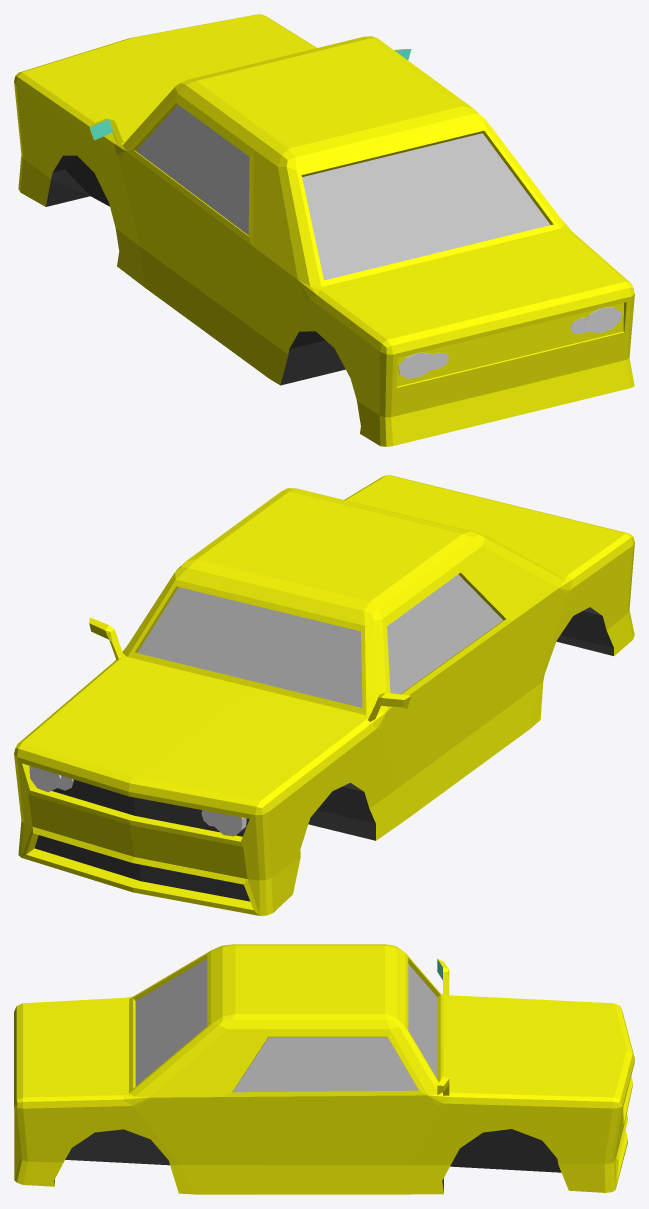
File: AIcar5.fbx
3 renders of one model, top to bottom at view 1: azimuth 30°, elevation 25°; view 2: azimuth 150°, elevation 25°; view 3: azimuth 270°, elevation 25°, orthographic. The views are drawn at different scales.
Visible parts, largest first — view 1: AIcar1; view 2: AIcar1; view 3: AIcar1.
Part boxes in pixels (<box>): AIcar1: <box>14,14,634,446</box>; AIcar1: <box>14,475,634,915</box>; AIcar1: <box>14,944,634,1194</box>.
Bounding box in the file's own units: 4.37 × 2.62 × 9.03.
